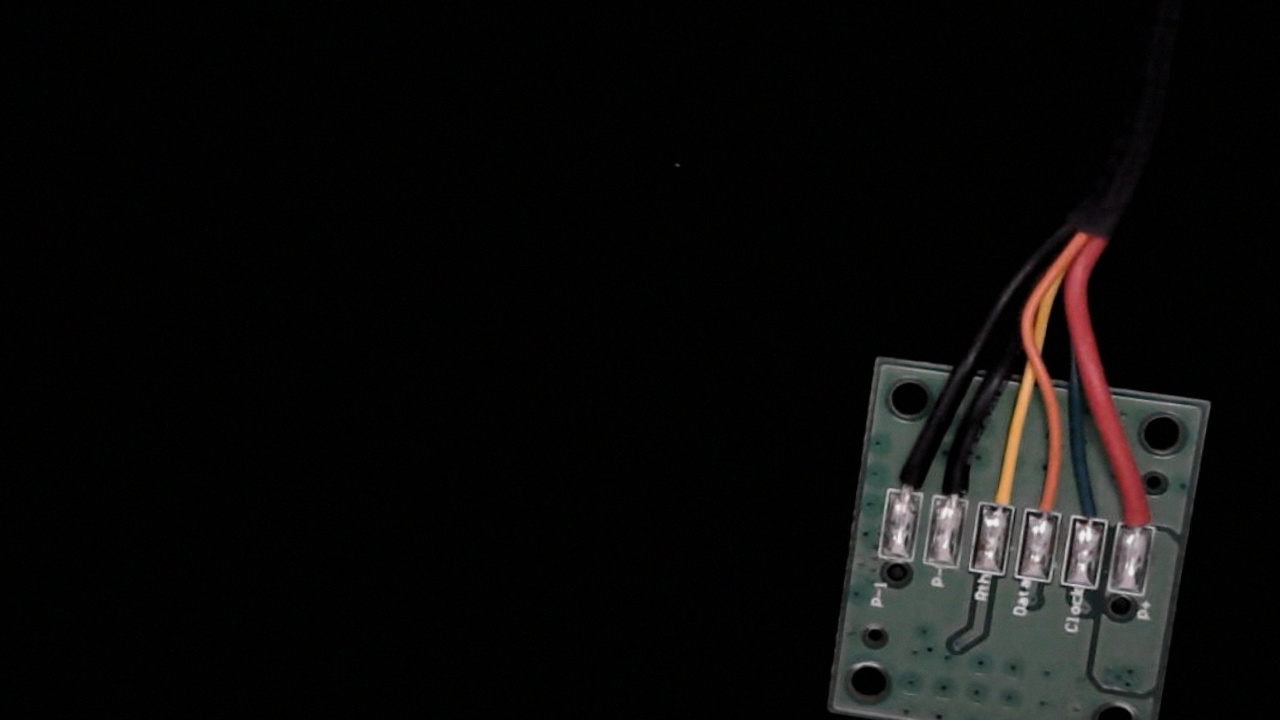Black: (931, 443, 982, 519)
Black1: (882, 434, 932, 513)
Green: (1067, 468, 1117, 541)
Orange: (1022, 464, 1072, 535)
Red: (1114, 464, 1168, 546)
Yellow: (978, 453, 1025, 529)
